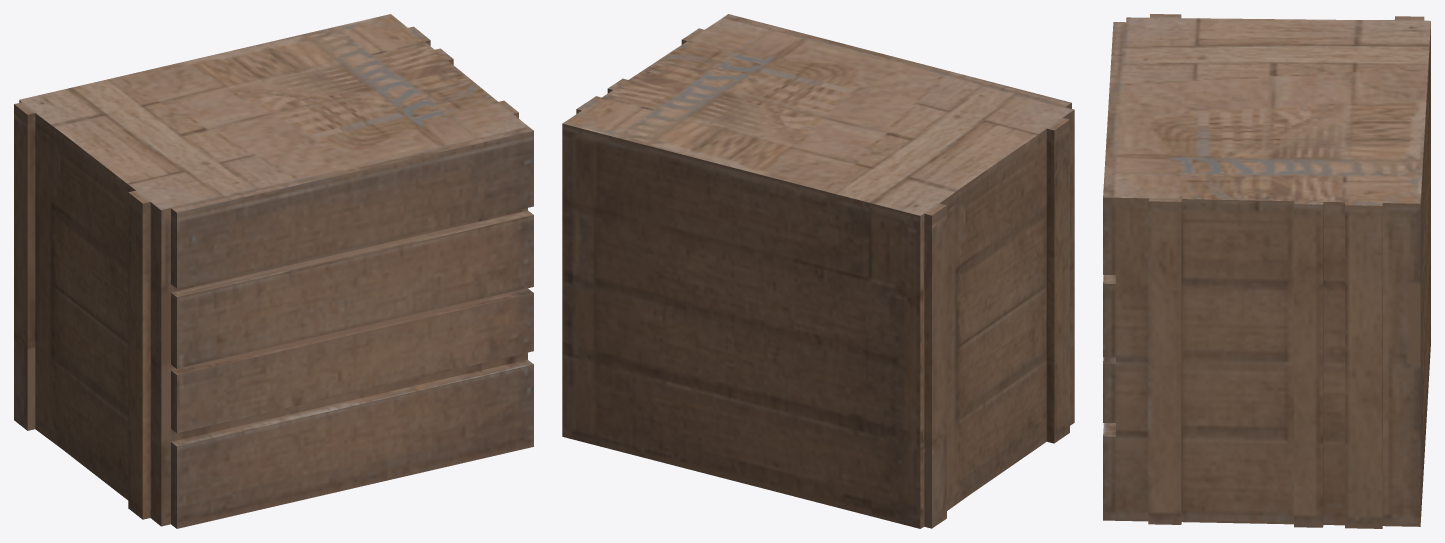
Rendered from WoodenCrate.fbx.
The picture shows the model from 3 angles, left to right: view 1: azimuth 30°, elevation 25°; view 2: azimuth 150°, elevation 25°; view 3: azimuth 270°, elevation 25°; orthographic projection. The views are drawn at different scales.
Parts seen in each view (by area): view 1: WoodenCrate_Low; view 2: WoodenCrate_Low; view 3: WoodenCrate_Low.
Part boxes in pixels (x1,y1,x2,y2): WoodenCrate_Low: [14, 14, 533, 528]; WoodenCrate_Low: [562, 14, 1074, 528]; WoodenCrate_Low: [1103, 14, 1430, 528].
Bounding box in the file's own units: 0.5425 × 0.426 × 0.3919.
